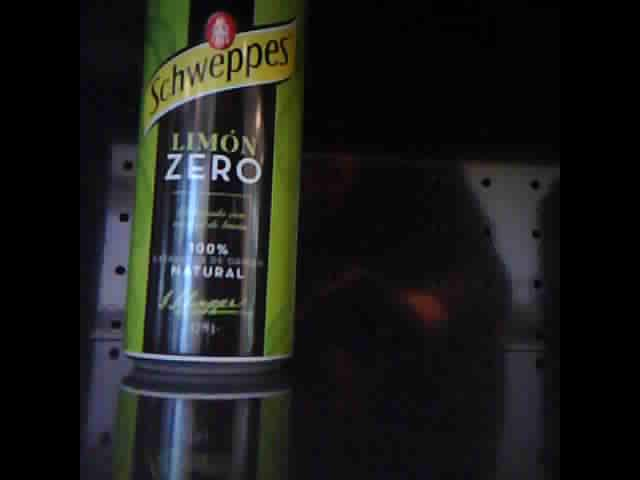schweppes: (127, 1, 310, 381)
